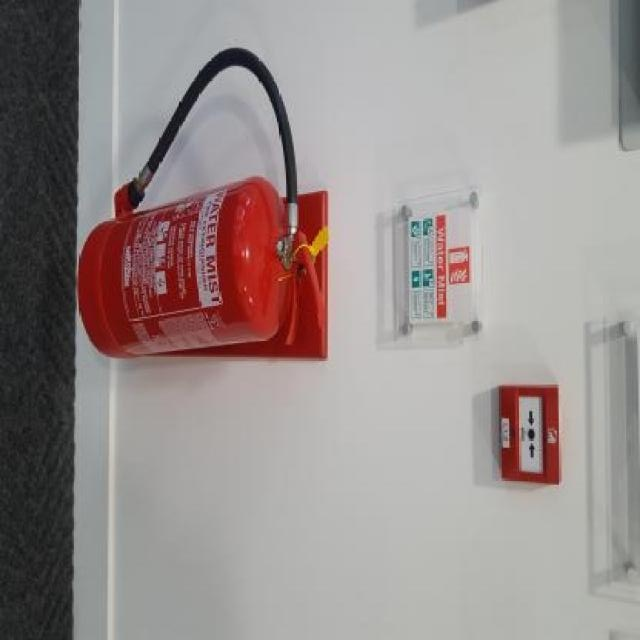fire extinguisher: (77, 43, 337, 375)
